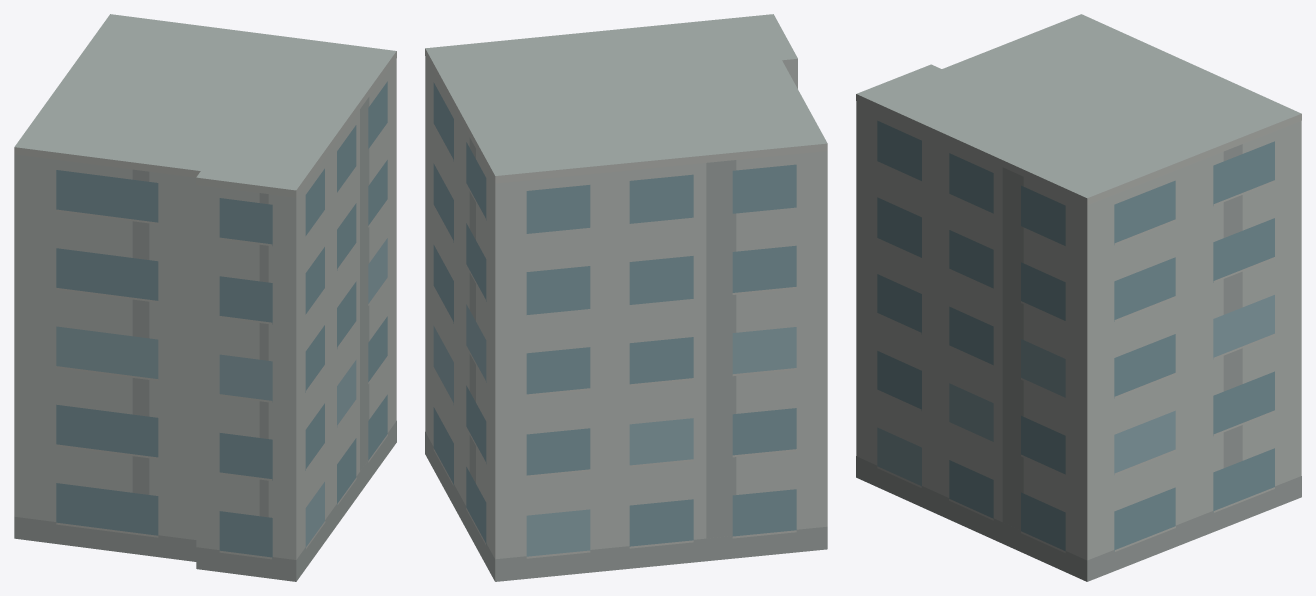
Rendered from residential-b3218d09-7c7f-46ec-a5ad-974196811cc3.glb.
3 renders of one model, left to right at view 1: azimuth 30°, elevation 25°; view 2: azimuth 150°, elevation 25°; view 3: azimuth 270°, elevation 25°, orthographic. The views are drawn at different scales.
Visible parts, largest first — view 1: residential-b3218d09-7c7f-46ec-a5ad-974196811cc3.tmp; view 2: residential-b3218d09-7c7f-46ec-a5ad-974196811cc3.tmp; view 3: residential-b3218d09-7c7f-46ec-a5ad-974196811cc3.tmp.
Boxes of the visible parts, x1,y1,x2,y2 form: residential-b3218d09-7c7f-46ec-a5ad-974196811cc3.tmp: (14,14,396,581); residential-b3218d09-7c7f-46ec-a5ad-974196811cc3.tmp: (425,14,827,581); residential-b3218d09-7c7f-46ec-a5ad-974196811cc3.tmp: (856,14,1301,581).
Bounding box in the file's own units: 13.61 × 13.2 × 13.9.
